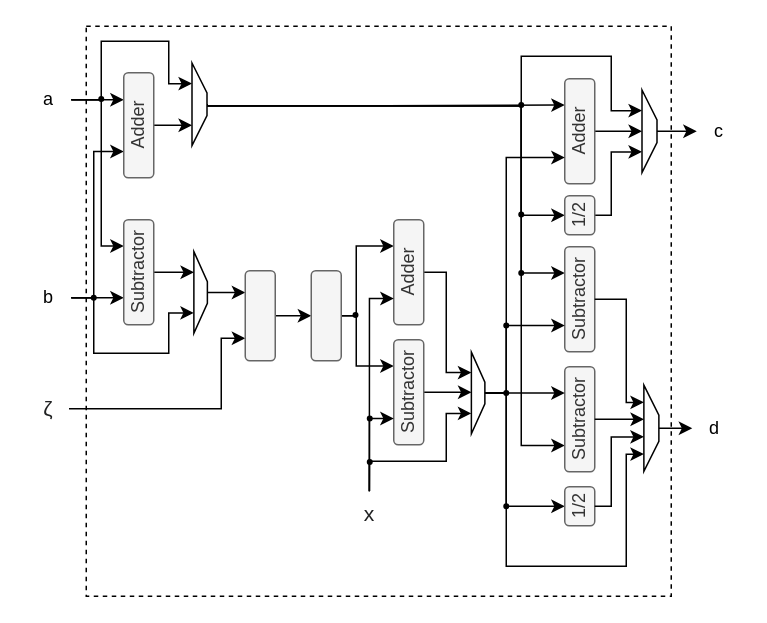
This 767x623 diagram has some shape labels left out. The centre of each missing label's shape, as x and y in pixels:
Multiplier: point 259,315
Reduction: point 325,315
